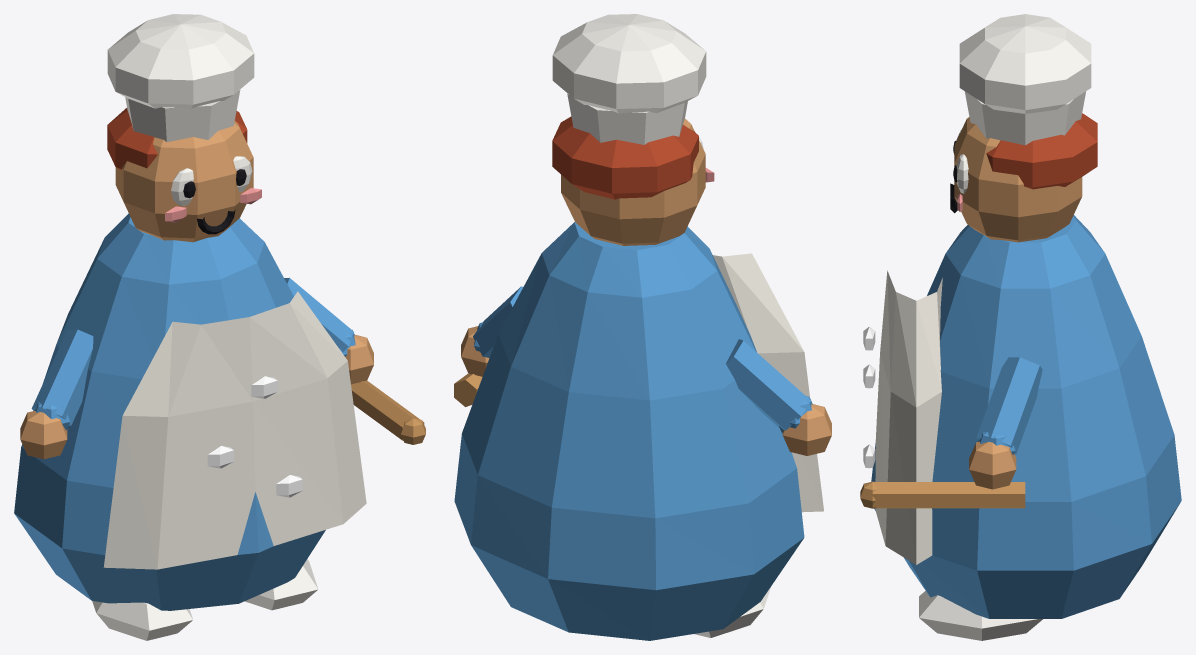
The model's file is npc_panadera.glb.
3 views of the same model, side by side, from view 1: azimuth 30°, elevation 25°; view 2: azimuth 150°, elevation 25°; view 3: azimuth 270°, elevation 25° (orthographic). The views are drawn at different scales.
Visible parts, largest first — view 1: body_apron, body_baker_dress, cap_white, head_skin_arena, arms_baker_dress, legs_white, arms_skin_arena, props_rolling_pin, head_hair_red, face_white, face_black; view 2: body_baker_dress, cap_white, head_hair_red, body_apron, head_skin_arena, arms_baker_dress, arms_skin_arena, legs_white, props_rolling_pin; view 3: body_baker_dress, body_apron, cap_white, head_skin_arena, head_hair_red, props_rolling_pin, arms_baker_dress, legs_white, arms_skin_arena.
Boxes of the visible parts, <box> form: body_apron: <box>103,291,366,569</box>; body_baker_dress: <box>14,213,325,610</box>; cap_white: <box>107,14,254,142</box>; head_skin_arena: <box>115,121,253,242</box>; arms_baker_dress: <box>31,277,355,430</box>; legs_white: <box>92,559,318,640</box>; arms_skin_arena: <box>20,335,373,459</box>; props_rolling_pin: <box>351,380,425,444</box>; head_hair_red: <box>107,108,247,169</box>; face_white: <box>171,156,252,205</box>; face_black: <box>183,169,246,234</box>; body_baker_dress: <box>454,222,804,640</box>; cap_white: <box>552,14,706,144</box>; head_hair_red: <box>552,116,698,199</box>; body_apron: <box>713,253,823,512</box>; head_skin_arena: <box>561,119,705,245</box>; arms_baker_dress: <box>473,286,812,432</box>; arms_skin_arena: <box>461,326,831,455</box>; legs_white: <box>694,586,771,637</box>; props_rolling_pin: <box>454,373,482,406</box>; body_baker_dress: <box>871,215,1181,618</box>; body_apron: <box>875,270,942,564</box>; cap_white: <box>959,14,1091,145</box>; head_skin_arena: <box>954,117,1082,242</box>; head_hair_red: <box>986,113,1097,189</box>; props_rolling_pin: <box>860,481,1025,508</box>; arms_baker_dress: <box>976,357,1042,454</box>; legs_white: <box>919,591,1042,640</box>; arms_skin_arena: <box>969,441,1016,489</box>.
Size of the model in its own units: 1.13 by 1.75 by 0.8846.
